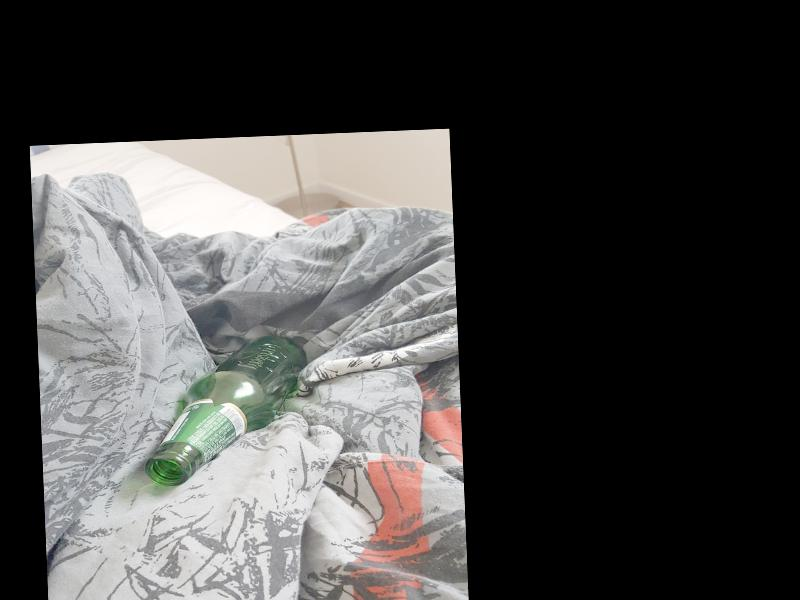Beer: (142, 334, 312, 487)
